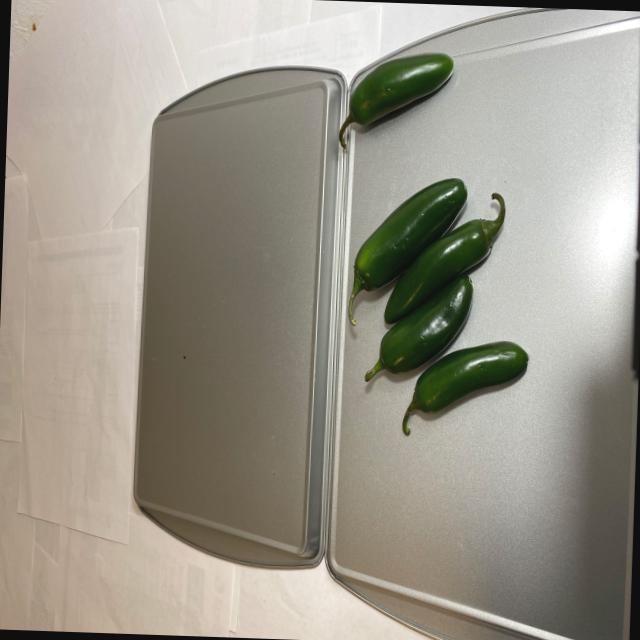chilli: (324, 53, 544, 450)
